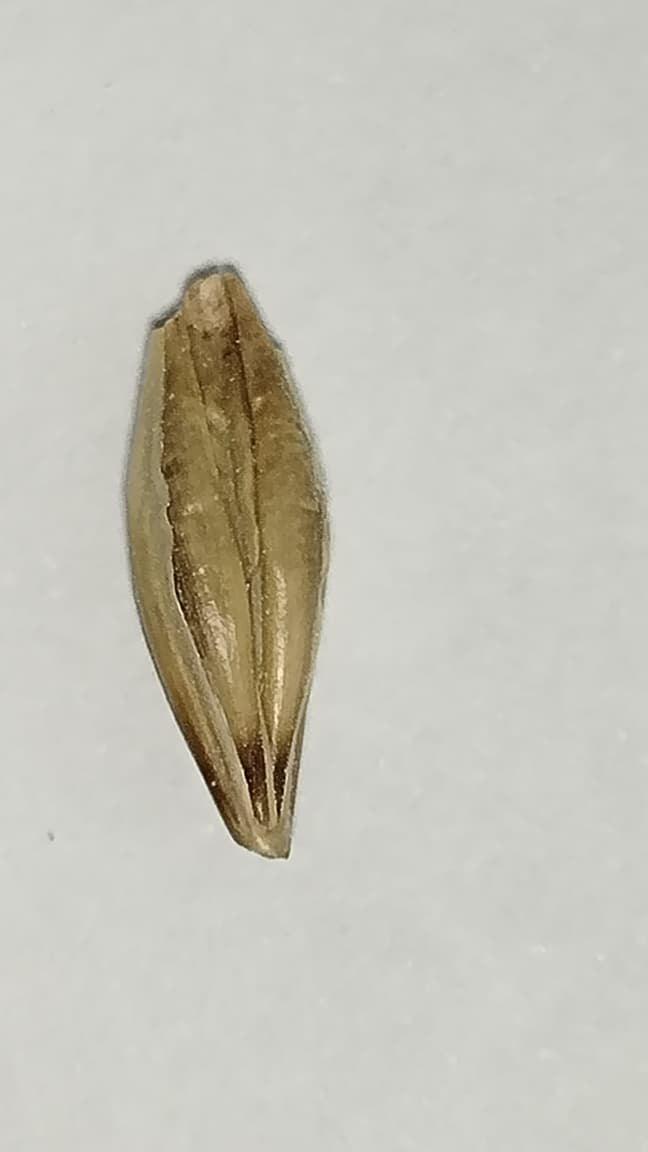healthy-70-60: (127, 270, 328, 857)
staindamage: (176, 710, 305, 855)
